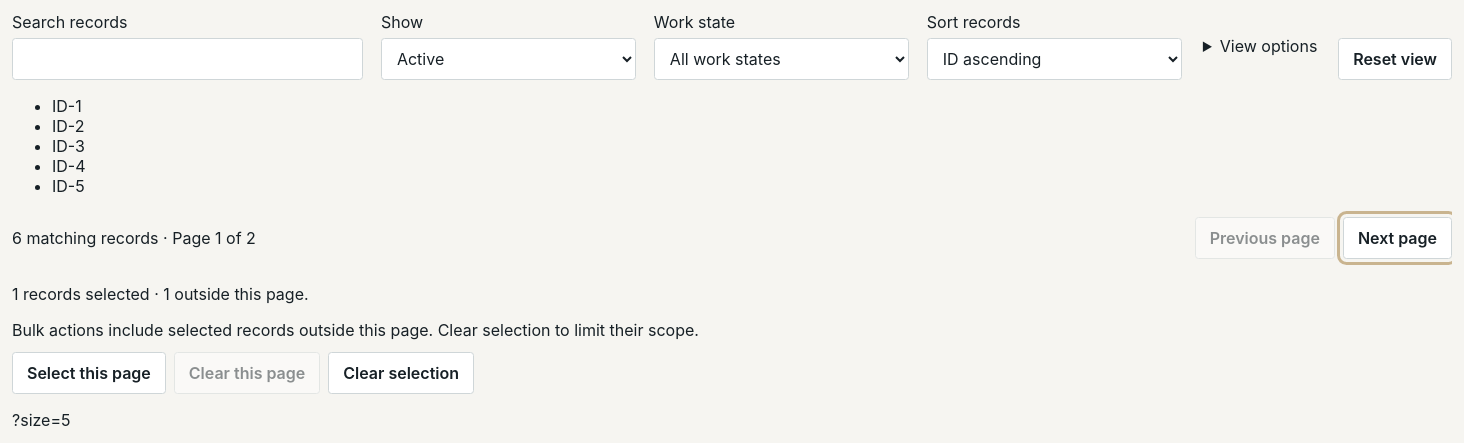
Test case: collection exploration controls › navigates page boundaries with native keyboard-operable buttons
Expected: the button "Previous page" is disabled, 1195,217 -> 1335,259
Press Enter
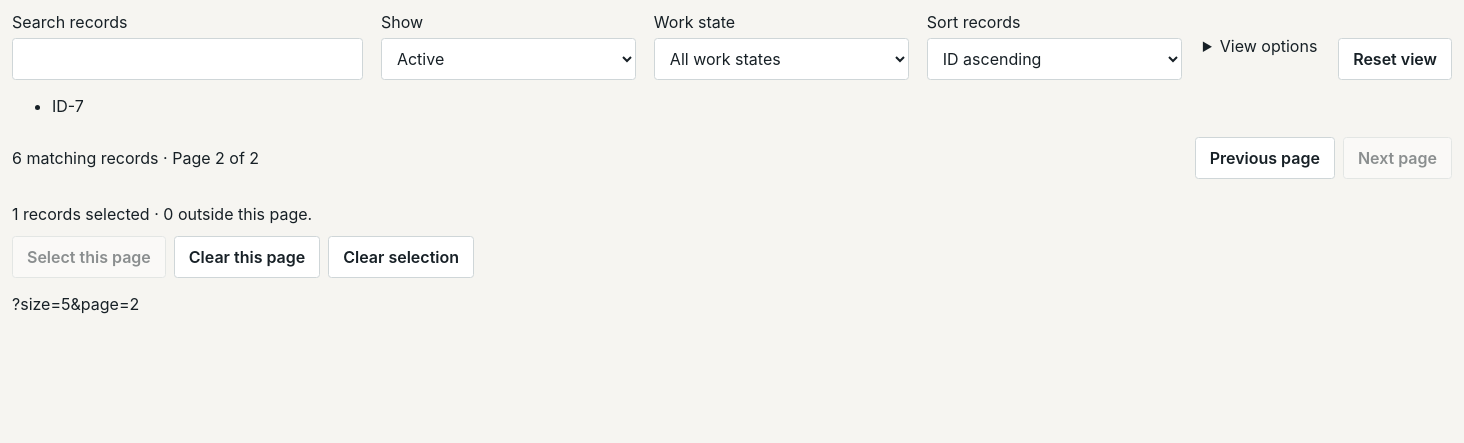
Expected: the text "6 matching records · Page 2 of 2" is shown, 12,148 -> 259,168
Expected: the button "Next page" is disabled, 1343,137 -> 1452,179
Click the button "Clear this page" at (247, 257), box 174,236 -> 320,278
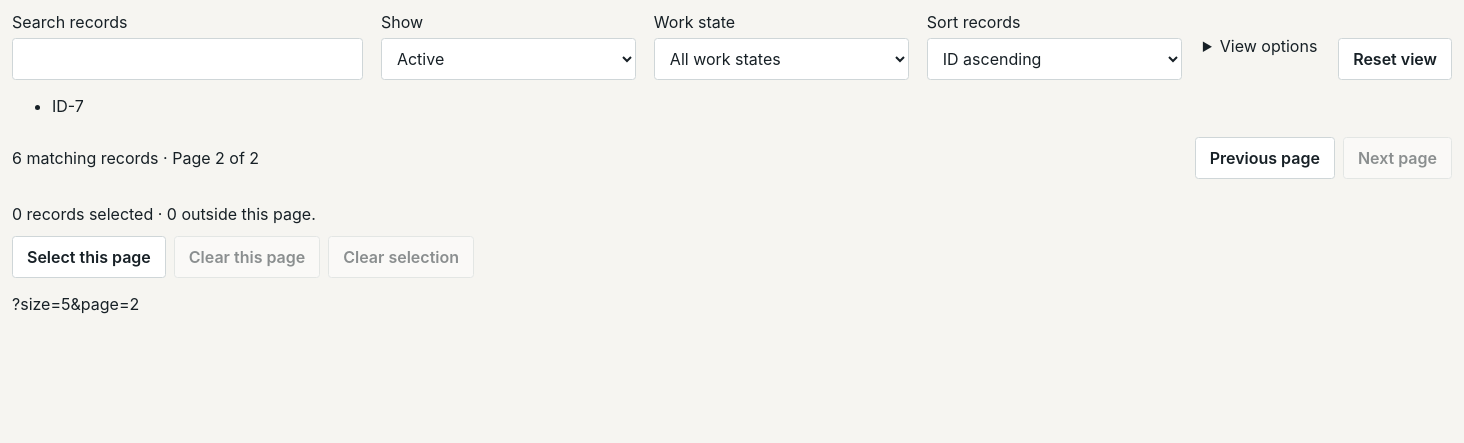
Expected: the text "0 records selected · 0 outside this page." is shown, 12,204 -> 316,224
